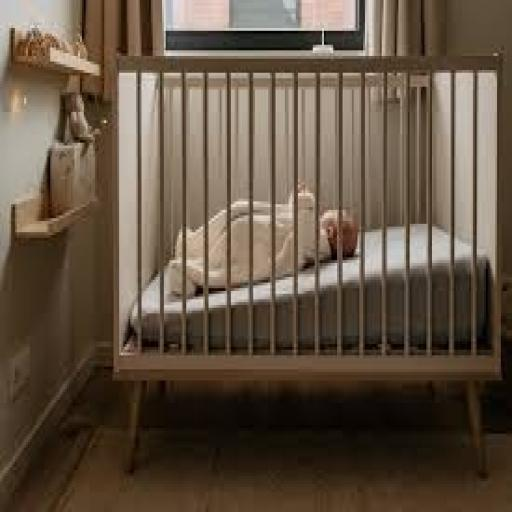baby: (170, 202, 249, 296)
crib: (114, 54, 502, 470)
